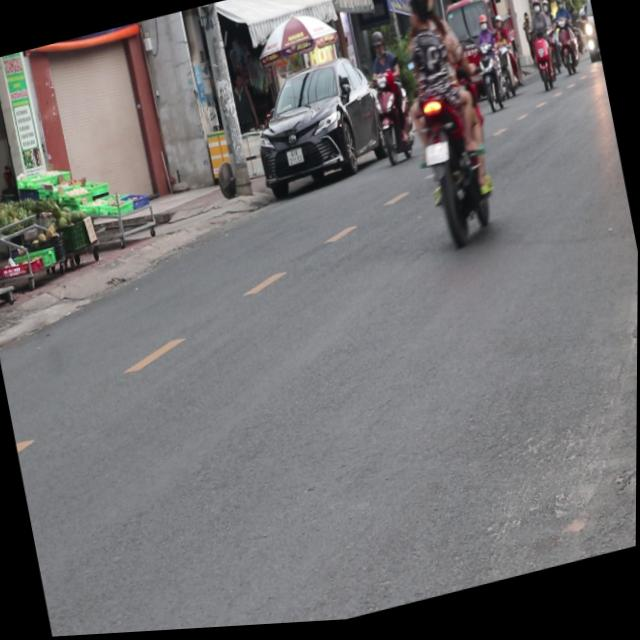helmet: (406, 0, 434, 18), (367, 32, 385, 60)
licenseplate: (381, 0, 507, 259), (355, 27, 419, 173)
motorcyclist: (403, 0, 432, 32)
nohelmet: (423, 147, 449, 172)
